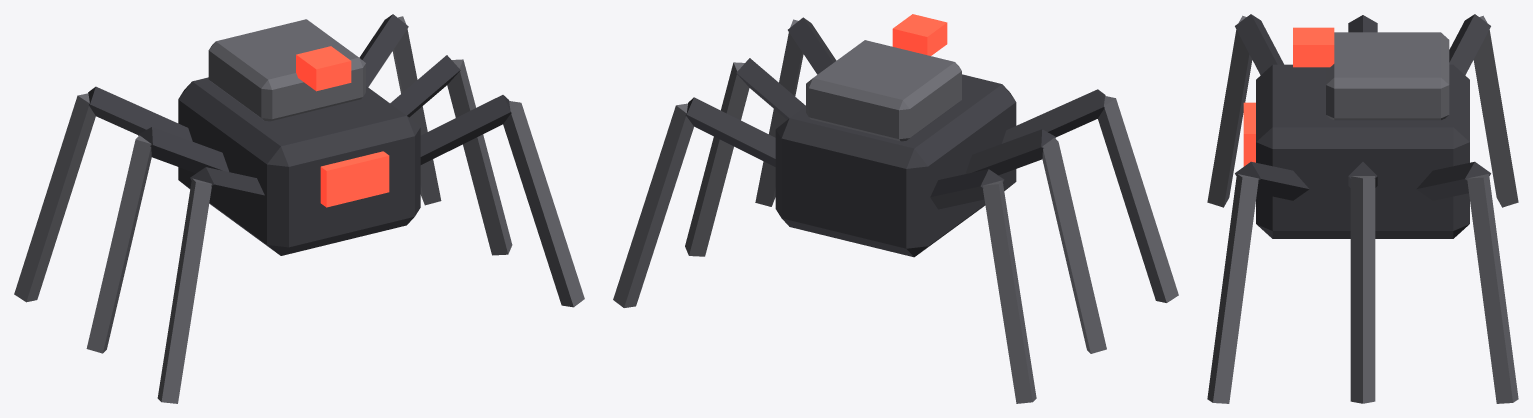
File: nano_mite.glb
The picture shows the model from 3 angles, left to right: view 1: azimuth 30°, elevation 25°; view 2: azimuth 150°, elevation 25°; view 3: azimuth 270°, elevation 25°; orthographic projection. The views are drawn at different scales.
Parts seen in each view (by area): view 1: Cube, Cube.001, Cylinder.009, Cylinder.003, Cylinder.001, Cylinder.005, Cylinder.007, Eye, Cylinder.002, Cylinder.008, Cylinder.004, Cylinder.011 (+4 smaller); view 2: Cube, Cube.001, Cylinder.001, Cylinder.011, Cylinder.009, Cylinder.005, Cylinder.007, Cylinder.010, Cylinder, Cylinder.004, Cylinder.003, Eye.001 (+3 smaller); view 3: Cube, Cube.001, Cylinder.007, Cylinder.003, Cylinder.011, Cylinder.009, Cylinder.001, Eye.001, Cylinder.002, Cylinder.010, Cylinder, Cylinder.008 (+2 smaller).
Part boxes in pixels (bbox=[...]): Cube: bbox=[178, 77, 420, 255]; Cube.001: bbox=[208, 19, 365, 121]; Cylinder.009: bbox=[14, 93, 95, 302]; Cylinder.003: bbox=[503, 101, 584, 307]; Cylinder.001: bbox=[157, 178, 211, 403]; Cylinder.005: bbox=[86, 135, 151, 353]; Cylinder.007: bbox=[447, 59, 512, 255]; Eye: bbox=[320, 151, 389, 207]; Cylinder.002: bbox=[420, 95, 511, 164]; Cylinder.008: bbox=[88, 86, 192, 141]; Cylinder.004: bbox=[138, 127, 229, 173]; Cylinder.011: bbox=[392, 16, 441, 205]; Cube: bbox=[775, 74, 1016, 257]; Cube.001: bbox=[806, 40, 961, 141]; Cylinder.001: bbox=[1098, 96, 1178, 302]; Cylinder.011: bbox=[613, 103, 693, 307]; Cylinder.009: bbox=[983, 180, 1036, 403]; Cylinder.005: bbox=[1042, 138, 1106, 353]; Cylinder.007: bbox=[685, 62, 749, 256]; Cylinder.010: bbox=[685, 97, 775, 166]; Cylinder: bbox=[1002, 89, 1105, 143]; Cylinder.004: bbox=[965, 129, 1055, 175]; Cylinder.003: bbox=[755, 19, 803, 206]; Eye.001: bbox=[892, 14, 947, 55]; Cube: bbox=[1256, 64, 1469, 238]; Cube.001: bbox=[1326, 32, 1449, 120]; Cylinder.007: bbox=[1350, 176, 1375, 403]; Cylinder.003: bbox=[1207, 174, 1258, 403]; Cylinder.011: bbox=[1467, 174, 1518, 403]; Cylinder.009: bbox=[1473, 15, 1518, 207]; Cylinder.001: bbox=[1207, 15, 1252, 207]; Eye.001: bbox=[1293, 27, 1334, 67]; Cylinder.002: bbox=[1235, 161, 1309, 200]; Cylinder.010: bbox=[1416, 161, 1490, 200]; Cylinder: bbox=[1235, 14, 1283, 75]; Cylinder.008: bbox=[1449, 14, 1490, 75].
Size of the model in its own units: 0.609 by 0.3592 by 0.3787.
